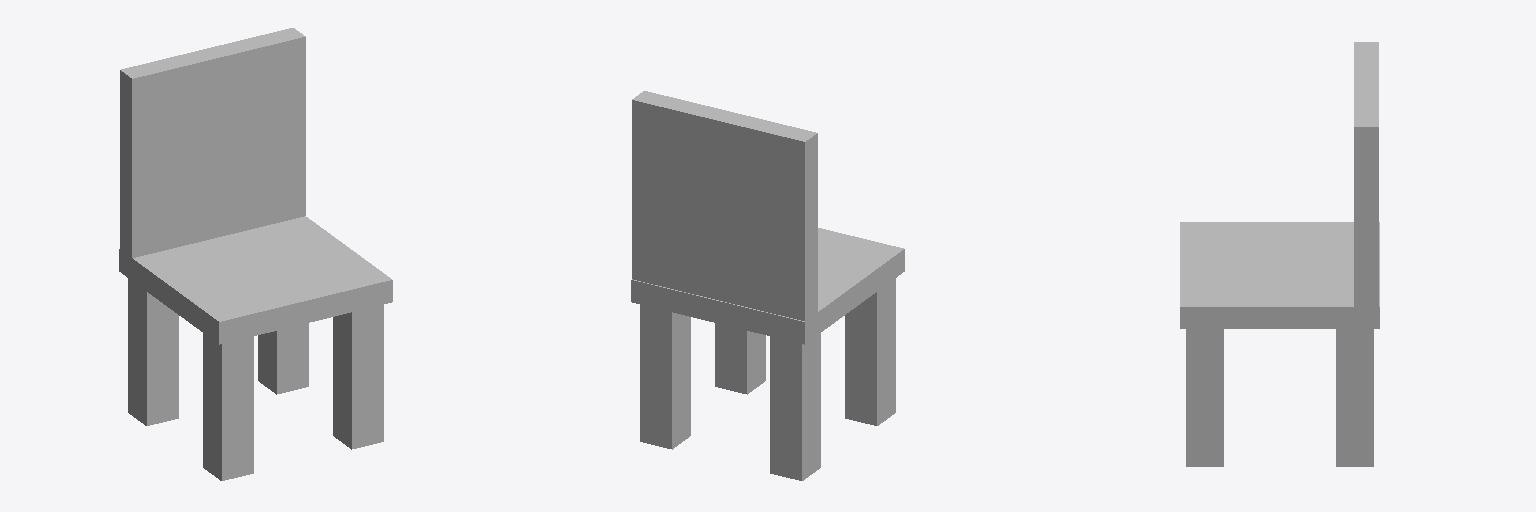
Rendered from chair.obj.
The picture shows the model from 3 angles: view 1: azimuth 30°, elevation 25°; view 2: azimuth 150°, elevation 25°; view 3: azimuth 270°, elevation 25°; orthographic projection.
Visible parts, largest first — view 1: pCube6, pCube5, pCube4, pCube3, pCube1, pCube2; view 2: pCube6, pCube5, pCube1, pCube2, pCube4, pCube3; view 3: pCube5, pCube6, pCube2, pCube3.
Part boxes in pixels (bbox=[...]): pCube6: bbox=[120, 28, 305, 258]; pCube5: bbox=[119, 216, 392, 344]; pCube4: bbox=[203, 333, 253, 480]; pCube3: bbox=[333, 305, 383, 449]; pCube1: bbox=[128, 278, 178, 425]; pCube2: bbox=[258, 323, 308, 394]; pCube6: bbox=[632, 91, 817, 321]; pCube5: bbox=[631, 228, 904, 344]; pCube1: bbox=[770, 333, 820, 480]; pCube2: bbox=[640, 305, 690, 449]; pCube4: bbox=[845, 278, 895, 425]; pCube3: bbox=[715, 323, 765, 394]; pCube5: bbox=[1180, 222, 1379, 328]; pCube6: bbox=[1354, 42, 1378, 308]; pCube2: bbox=[1336, 329, 1373, 466]; pCube3: bbox=[1186, 329, 1223, 466].
Bounding box in the file's own units: 0.8 × 1.51 × 0.8.